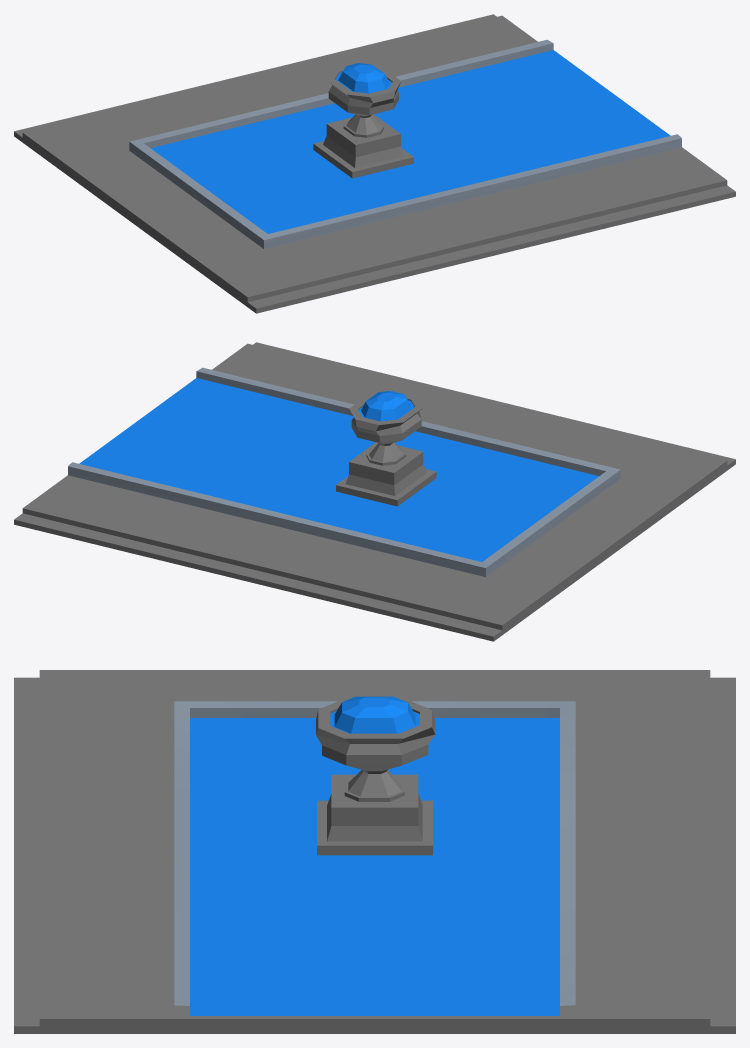
File: Bathhouse Centre.fbx
3 renders of one model, top to bottom at view 1: azimuth 30°, elevation 25°; view 2: azimuth 150°, elevation 25°; view 3: azimuth 270°, elevation 25°, orthographic. The views are drawn at different scales.
Parts seen in each view (by area): view 1: Bathhouse Centre; view 2: Bathhouse Centre; view 3: Bathhouse Centre.
Part boxes in pixels (left/top/right/bottom): Bathhouse Centre: left=14, top=14, right=735, bottom=313; Bathhouse Centre: left=14, top=342, right=735, bottom=641; Bathhouse Centre: left=14, top=670, right=735, bottom=1033.
Bounding box in the file's own units: 100 × 19.93 × 87.5.
